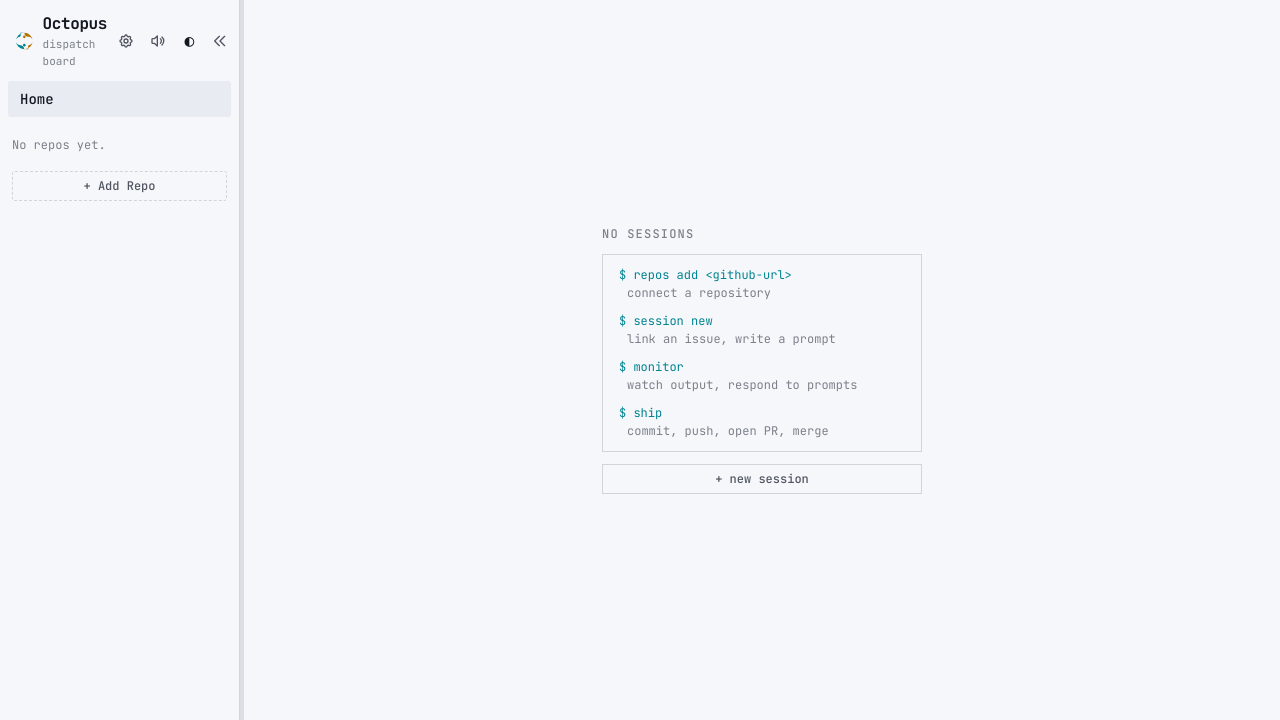
Test: Settings modal › switches to Notifications tab
Check: the heading "Octopus" is shown, box [43,12,112,36]
Click the button titled "Settings" at (126, 40), box [112,26,140,54]
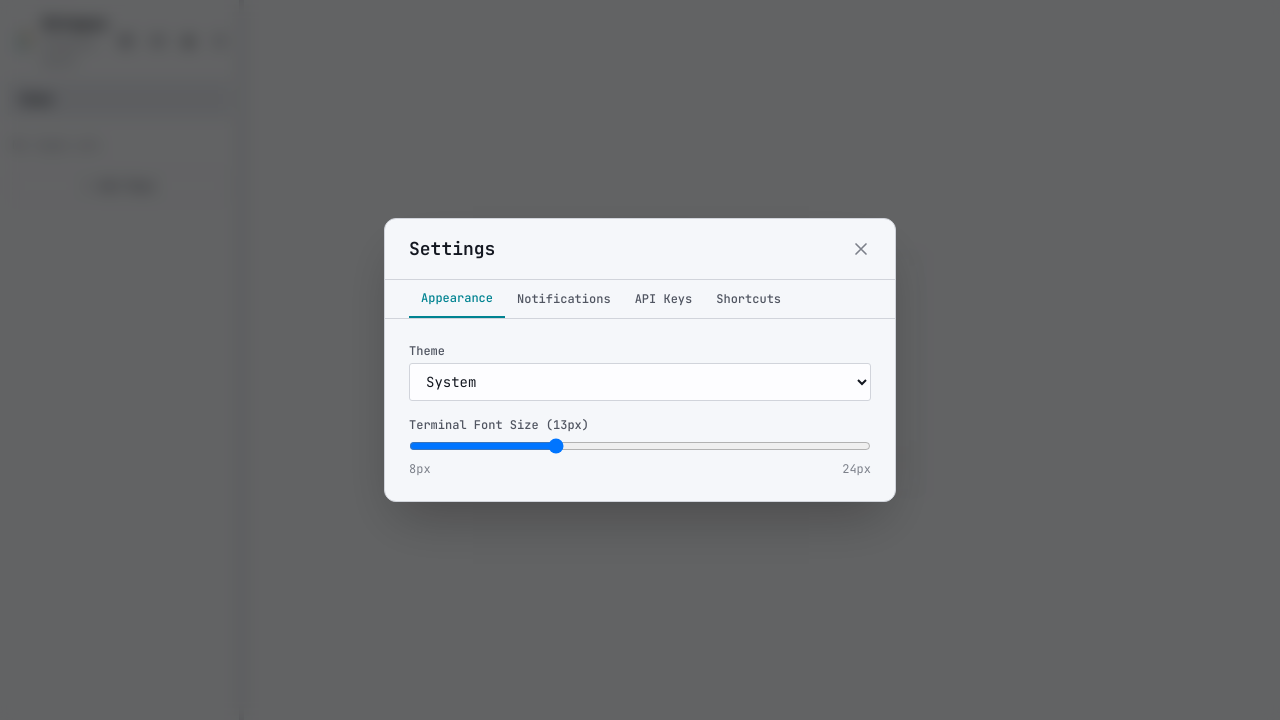
Check: the element with test id "settings-modal" is shown, box [384,218,896,502]
Click the button "Notifications" at (564, 299), box [505,280,623,318]
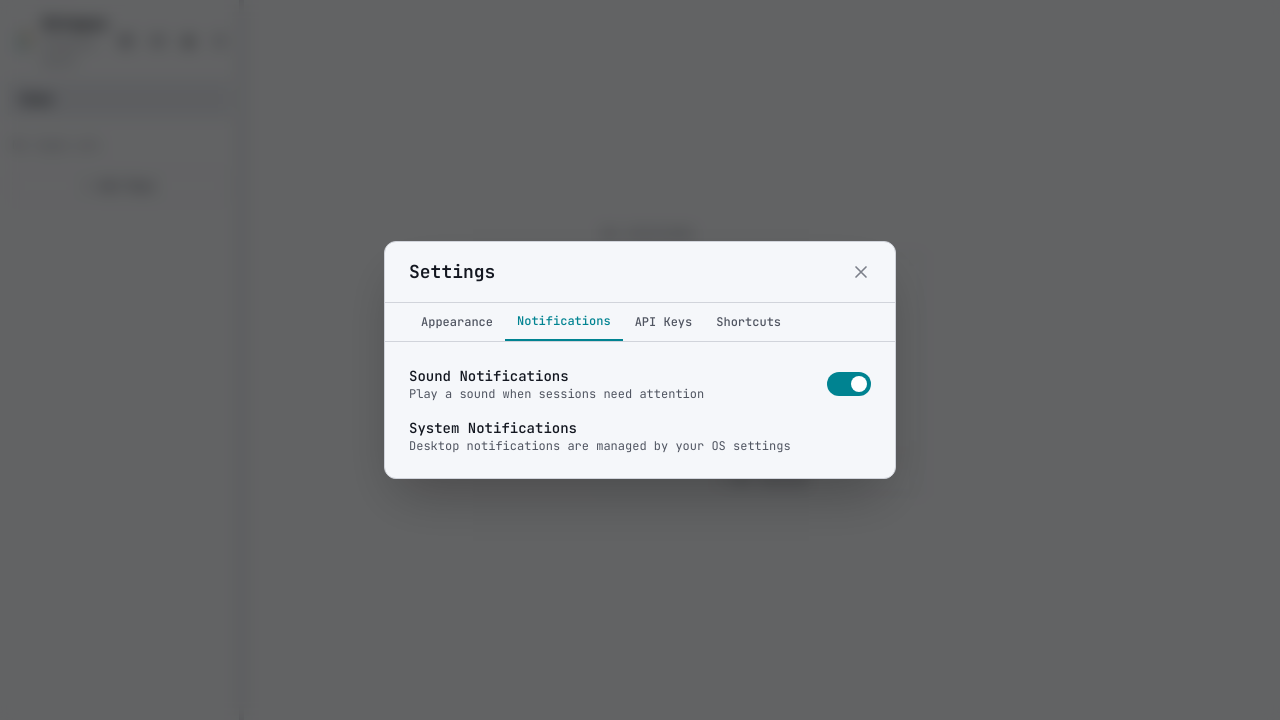
Check: the text "Sound Notifications" is shown, box [409,367,569,385]
